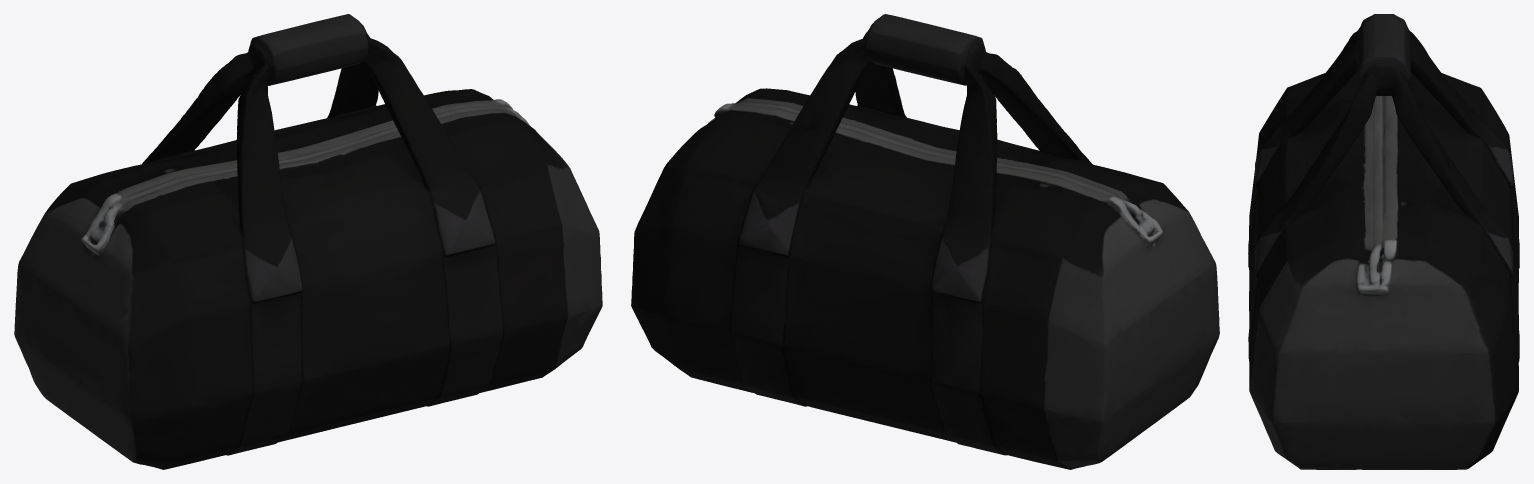
Rendered from black_bag_lod.glb.
The picture shows the model from 3 angles, left to right: view 1: azimuth 30°, elevation 25°; view 2: azimuth 150°, elevation 25°; view 3: azimuth 270°, elevation 25°; orthographic projection. The views are drawn at different scales.
Parts seen in each view (by area): view 1: world; view 2: world; view 3: world.
Boxes of the visible parts, x1,y1,x2,y2 form: world: [14, 14, 602, 469]; world: [631, 14, 1219, 469]; world: [1248, 14, 1519, 469].
Bounding box in the file's own units: 0.9999 × 0.7383 × 0.5236.
Materials: 1 (1 with a texture image).
